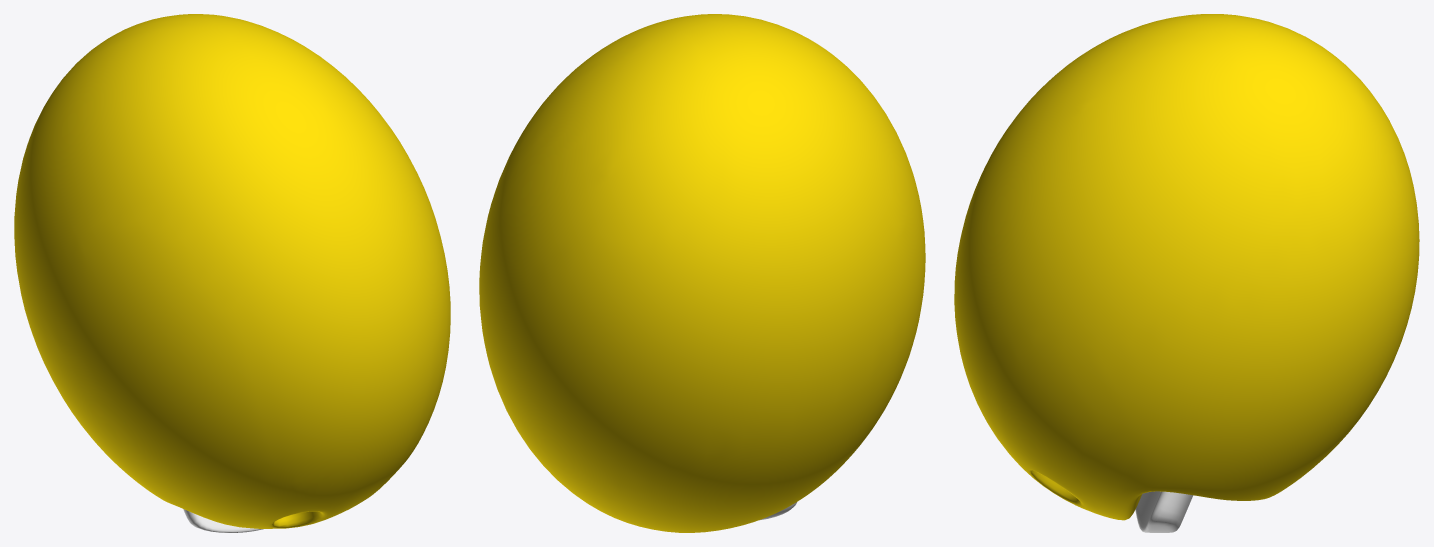
The model's file is happy.dae.
The picture shows the model from 3 angles, left to right: view 1: azimuth 30°, elevation 25°; view 2: azimuth 150°, elevation 25°; view 3: azimuth 270°, elevation 25°; orthographic projection. The views are drawn at different scales.
Visible parts, largest first — view 1: Group13146, Group47597; view 2: Group13146; view 3: Group13146, Group47597.
Boxes of the visible parts, box(x1,y1,x2,y2) form: Group13146: box(14, 14, 450, 528); Group47597: box(183, 509, 263, 532); Group13146: box(479, 14, 925, 532); Group13146: box(954, 14, 1419, 520); Group47597: box(1135, 491, 1193, 532).
Bounding box in the file's own units: 17.74 × 22.6 × 20.2.
2 materials, 2 textured.
